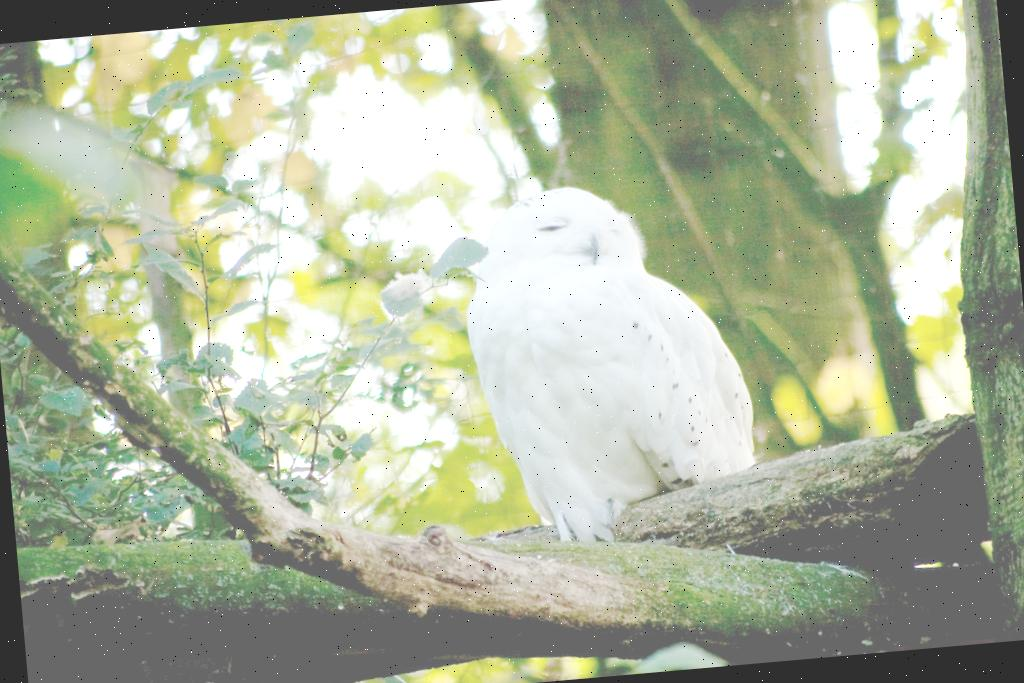Owl: (456, 184, 764, 550)
